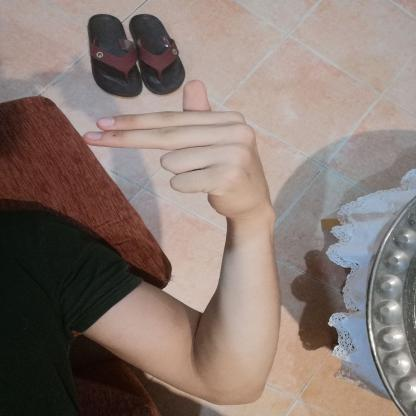GHAYN: (76, 69, 280, 224)
